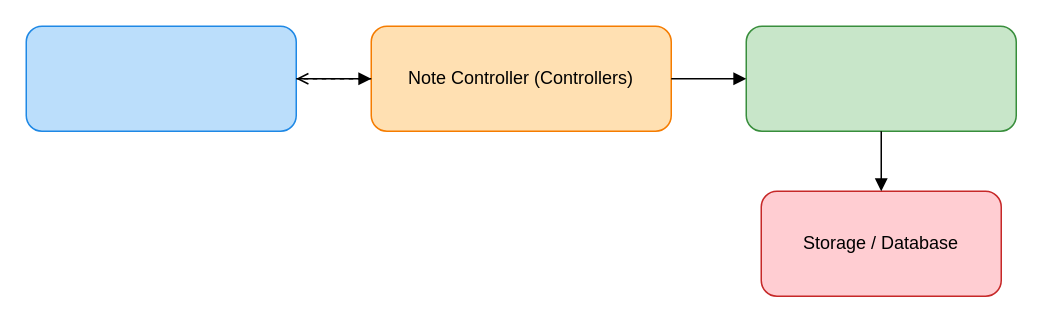
Image size: 1043x323. Some labels were removed from this diagram. The shapes that lost their labels are listed below. From the top down, each one's centre as x and y in pixels, then its label:
point (160, 78): User Interface (Views)
point (880, 78): Note Model (Models)
